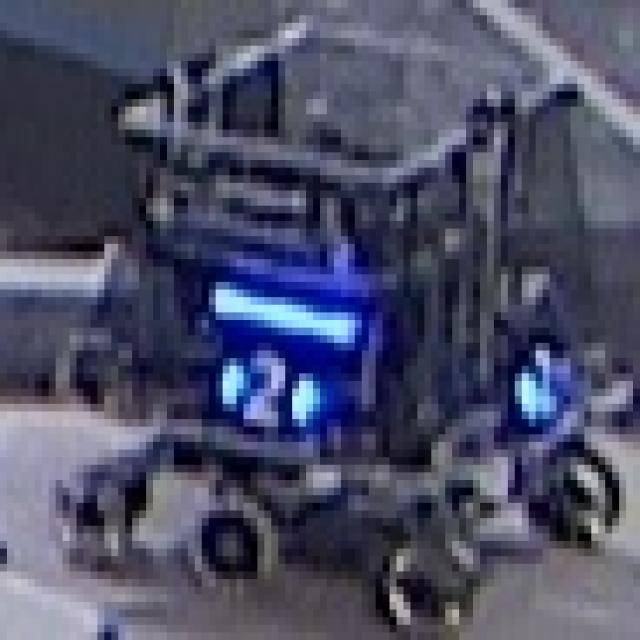B2: (209, 343, 320, 434), (508, 335, 577, 419)
